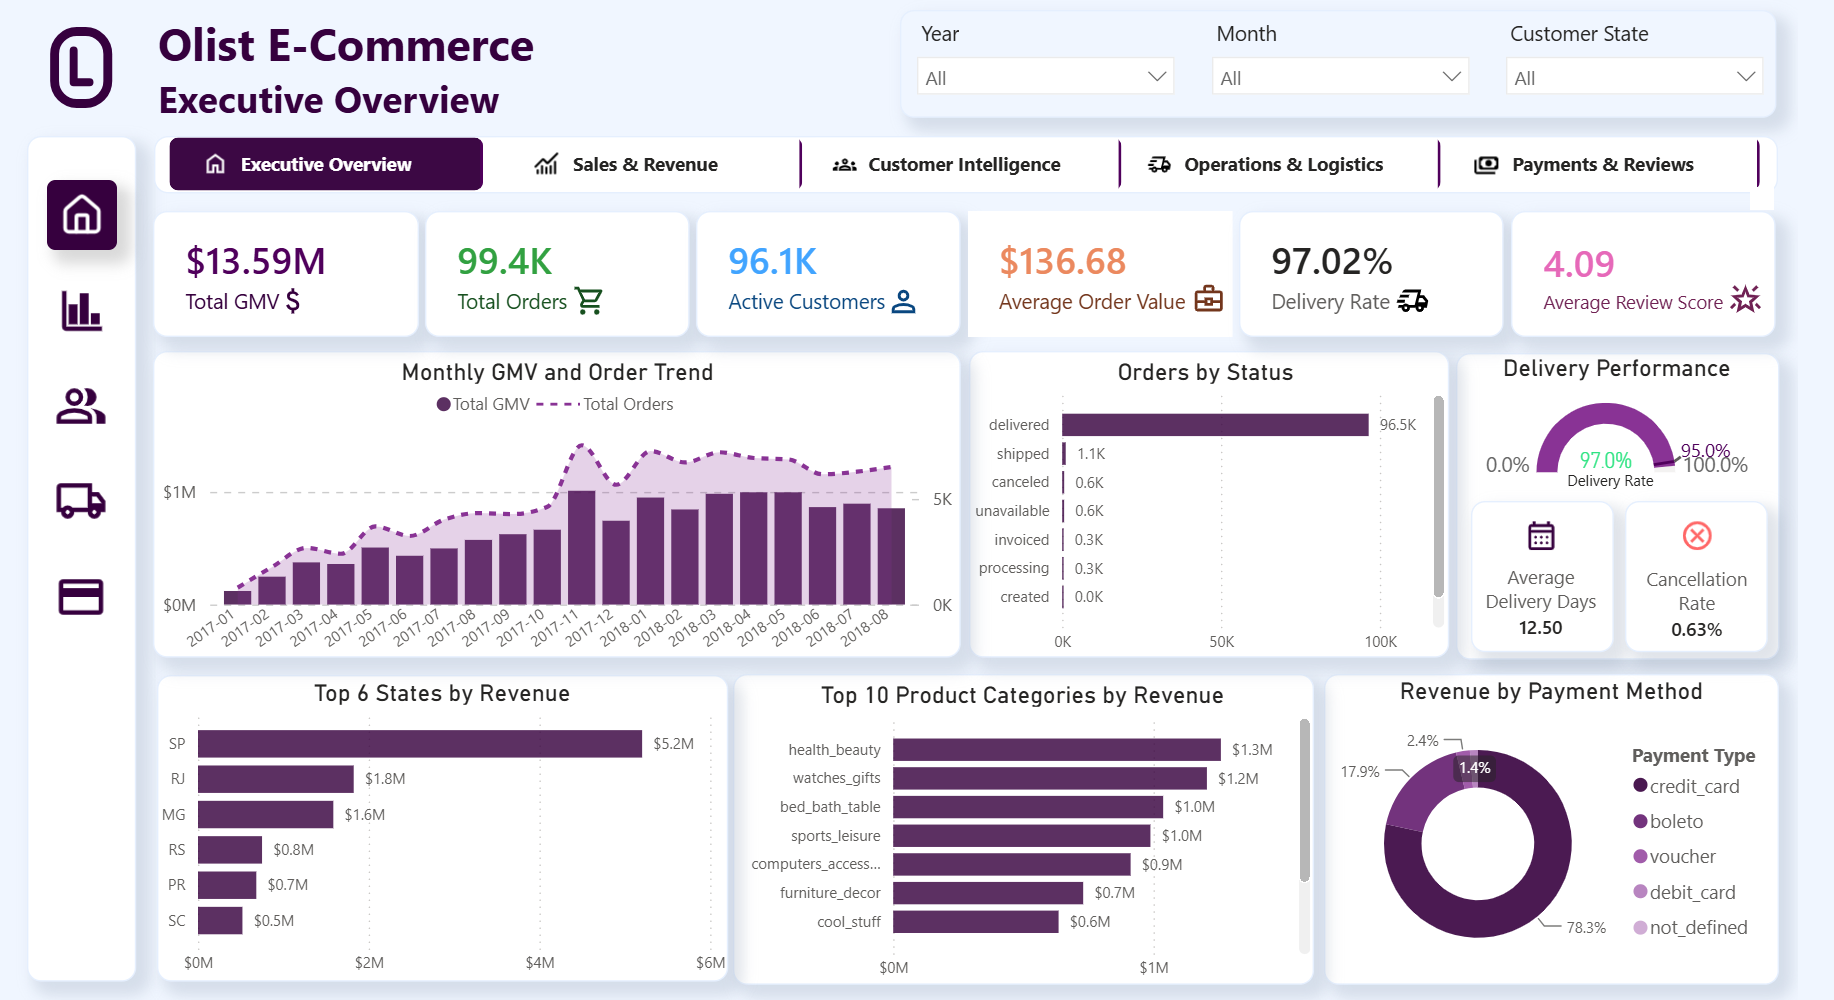

Layout of this report page (visuals, bound fields, positions):
{"tool":"powerbi","page":{"name":"Executive Overview","canvas":[1280,720],"ordinal":0},"visuals":[{"type":"image","box":[15.9,5.9,76.5,85.1],"z":0,"group":"g1"},{"type":"shape","box":[15.3,96.8,77.7,603.7],"z":0},{"type":"image","box":[19.9,11.6,68.4,71.9],"z":1000,"group":"g1"},{"type":"shape","box":[1035.5,252.2,230.5,219.1],"z":1000},{"type":"shape","box":[941.2,481.4,324.8,221.6],"z":2000},{"type":"shape","box":[519.6,481.4,415.2,221.6],"z":3000},{"type":"shape","box":[107.6,481.8,408.4,218.9],"z":4000},{"type":"shape","box":[687.8,250.9,342.6,219.1],"z":5000},{"type":"shape","box":[105.2,250.7,577.2,218.9],"z":6000},{"type":"shape","box":[638.3,7.3,626.1,77],"z":7000},{"type":"textbox","box":[63.6,3.7,368.1,90.5],"z":8000},{"type":"slicer","fields":{"Values":["dim_date.year"]},"box":[640.8,8.6,204.2,77],"z":9000},{"type":"slicer","fields":{"Values":["dim_date.month_name"]},"box":[851.2,8.6,204,77],"z":10000},{"type":"slicer","fields":{"Values":["dim_customer.Customer State"]},"box":[1061.4,8.6,204.2,77],"z":11000},{"type":"lineClusteredColumnComboChart","title":"Monthly GMV and Order Trend","fields":{"Category":["dim_date.year_month"],"Y":["_Measures.Total GMV"],"Y2":["_Measures.Total Orders"]},"box":[107.6,251.9,572.3,217.7],"z":12000},{"type":"clusteredBarChart","title":"Orders by Status","fields":{"Category":["fact_order.order_status"],"Y":["_Measures.Total Orders"]},"box":[686.5,252.2,343.9,219.1],"z":13000},{"type":"clusteredBarChart","title":"Top 10 Product Categories by Revenue","fields":{"Category":["dim_product.Product Category"],"Y":["_Measures.Item GMV"]},"box":[520.9,482.7,413.9,221.6],"z":14000},{"type":"donutChart","title":"Revenue by Payment Method","fields":{"Category":["fact_payment.Payment Type"],"Y":["_Measures.Payment Fact Value"]},"box":[941.2,481.4,324.8,221.6],"z":15000},{"type":"clusteredBarChart","title":"Top 6 States by Revenue","fields":{"Category":["dim_customer.Customer State"],"Y":["_Measures.Total GMV"]},"box":[107,481.4,408.8,221.6],"z":16000},{"type":"cardVisual","fields":{"Data":["_Measures.Total GMV"]},"box":[105.2,150.4,189.5,90.5],"z":17000,"group":"g2"},{"type":"gauge","title":"Delivery Performance","fields":{"Y":["_Measures.Delivery Rate"]},"box":[1035.7,250.7,229.9,96.6],"z":17000},{"type":"pageNavigator","box":[105.7,96.8,1160.3,40.8],"z":18000},{"type":"cardVisual","fields":{"Data":["_Measures.Total Orders"]},"box":[299.6,150.4,189,90],"z":18000,"group":"g2"},{"type":"group","id":"g1","title":"Group 1","box":[15.9,5.9,76.5,85.1],"z":19000},{"type":"cardVisual","fields":{"Data":["_Measures.Active Customers"]},"box":[493.4,150.4,189,90.5],"z":19000,"group":"g2"},{"type":"group","id":"g2","title":"Group 2","box":[105.2,150.4,1158.7,90.5],"z":20000},{"type":"cardVisual","fields":{"Data":["_Measures.Average Order Value"]},"box":[687.2,150.4,189,90],"z":20000,"group":"g2"},{"type":"actionButton","box":[29.3,128.6,50,50],"z":21000},{"type":"cardVisual","fields":{"Data":["_Measures.Delivery Rate"]},"box":[881.1,150.4,189,90],"z":21000,"group":"g2"},{"type":"cardVisual","fields":{"Data":["_Measures.Average Review Score"]},"box":[1074.9,150.4,189,90],"z":22000,"group":"g2"},{"type":"actionButton","box":[29.3,196.8,50,50],"z":22000},{"type":"actionButton","box":[370.5,101.5,30.6,30.6],"z":23000},{"type":"actionButton","box":[134.5,101.5,30.6,30.6],"z":24000},{"type":"actionButton","box":[28.9,265,50,50],"z":25000},{"type":"actionButton","box":[583.3,102.7,30.6,29.3],"z":26000},{"type":"actionButton","box":[28.9,333.2,50,50],"z":27000},{"type":"actionButton","box":[809.5,102.7,29.3,29.3],"z":28000},{"type":"actionButton","box":[28.9,401.3,50,50],"z":29000},{"type":"actionButton","box":[1041.9,102.7,30.6,30.6],"z":30000},{"type":"shape","box":[1046.6,358,102.3,107.5],"z":33000},{"type":"cardVisual","fields":{"Data":["_Measures.Average Delivery Days"]},"box":[1042.6,397.4,107.5,65.6],"z":34000},{"type":"actionButton","box":[1074.1,364.6,44.6,36.7],"z":35000},{"type":"shape","box":[1156.7,358,102.3,107.5],"z":36000},{"type":"cardVisual","fields":{"Data":["_Measures.Cancellation Rate"]},"box":[1154.1,398.7,107.5,65.6],"z":37000},{"type":"actionButton","box":[1185.6,364.6,44.6,36.7],"z":38000},{"type":"textbox","box":[1096.9,332.6,97.8,25.7],"z":39000},{"type":"image","box":[193.2,203,24.5,24.5],"z":40000},{"type":"image","box":[404.8,203,24.5,24.5],"z":41000},{"type":"image","box":[628.5,203,25,25],"z":42000},{"type":"image","box":[1230.2,201.8,25,25],"z":43000},{"type":"image","box":[992.9,203,24.5,24.5],"z":44000},{"type":"image","box":[847.4,201.8,24.5,24.5],"z":45000}]}

Visuals, with their boxes on the page's 1280x720 design canvas (x1, y1, x2, y2). These are canvas units, not pixel positions in the 1834x1000 screenshot, which may show the page scaled, cropped or inside an application window:
image: <bbox>16, 6, 92, 91</bbox>
shape: <bbox>15, 97, 93, 700</bbox>
image: <bbox>20, 12, 88, 84</bbox>
shape: <bbox>1036, 252, 1266, 471</bbox>
shape: <bbox>941, 481, 1266, 703</bbox>
shape: <bbox>520, 481, 935, 703</bbox>
shape: <bbox>108, 482, 516, 701</bbox>
shape: <bbox>688, 251, 1030, 470</bbox>
shape: <bbox>105, 251, 682, 470</bbox>
shape: <bbox>638, 7, 1264, 84</bbox>
textbox: <bbox>64, 4, 432, 94</bbox>
slicer - dim_date.year: <bbox>641, 9, 845, 86</bbox>
slicer - dim_date.month_name: <bbox>851, 9, 1055, 86</bbox>
slicer - dim_customer.Customer State: <bbox>1061, 9, 1266, 86</bbox>
"Monthly GMV and Order Trend" lineClusteredColumnComboChart: <bbox>108, 252, 680, 470</bbox>
"Orders by Status" clusteredBarChart: <bbox>686, 252, 1030, 471</bbox>
"Top 10 Product Categories by Revenue" clusteredBarChart: <bbox>521, 483, 935, 704</bbox>
"Revenue by Payment Method" donutChart: <bbox>941, 481, 1266, 703</bbox>
"Top 6 States by Revenue" clusteredBarChart: <bbox>107, 481, 516, 703</bbox>
cardVisual - _Measures.Total GMV: <bbox>105, 150, 295, 241</bbox>
"Delivery Performance" gauge: <bbox>1036, 251, 1266, 347</bbox>
pageNavigator: <bbox>106, 97, 1266, 138</bbox>
cardVisual - _Measures.Total Orders: <bbox>300, 150, 489, 240</bbox>
"Group 1" group: <bbox>16, 6, 92, 91</bbox>
cardVisual - _Measures.Active Customers: <bbox>493, 150, 682, 241</bbox>
"Group 2" group: <bbox>105, 150, 1264, 241</bbox>
cardVisual - _Measures.Average Order Value: <bbox>687, 150, 876, 240</bbox>
actionButton: <bbox>29, 129, 79, 179</bbox>
cardVisual - _Measures.Delivery Rate: <bbox>881, 150, 1070, 240</bbox>
cardVisual - _Measures.Average Review Score: <bbox>1075, 150, 1264, 240</bbox>
actionButton: <bbox>29, 197, 79, 247</bbox>
actionButton: <bbox>370, 102, 401, 132</bbox>
actionButton: <bbox>134, 102, 165, 132</bbox>
actionButton: <bbox>29, 265, 79, 315</bbox>
actionButton: <bbox>583, 103, 614, 132</bbox>
actionButton: <bbox>29, 333, 79, 383</bbox>
actionButton: <bbox>810, 103, 839, 132</bbox>
actionButton: <bbox>29, 401, 79, 451</bbox>
actionButton: <bbox>1042, 103, 1072, 133</bbox>
shape: <bbox>1047, 358, 1149, 466</bbox>
cardVisual - _Measures.Average Delivery Days: <bbox>1043, 397, 1150, 463</bbox>
actionButton: <bbox>1074, 365, 1119, 401</bbox>
shape: <bbox>1157, 358, 1259, 466</bbox>
cardVisual - _Measures.Cancellation Rate: <bbox>1154, 399, 1262, 464</bbox>
actionButton: <bbox>1186, 365, 1230, 401</bbox>
textbox: <bbox>1097, 333, 1195, 358</bbox>
image: <bbox>193, 203, 218, 228</bbox>
image: <bbox>405, 203, 429, 228</bbox>
image: <bbox>628, 203, 654, 228</bbox>
image: <bbox>1230, 202, 1255, 227</bbox>
image: <bbox>993, 203, 1017, 228</bbox>
image: <bbox>847, 202, 872, 226</bbox>
